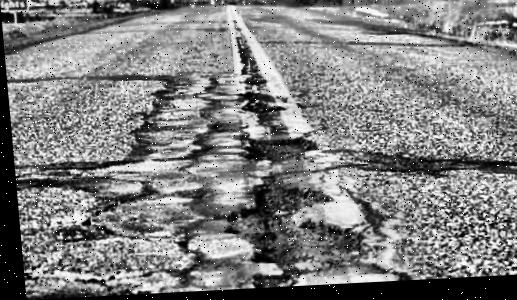pothole: (214, 181, 356, 291), (237, 137, 317, 166), (236, 92, 289, 119), (232, 42, 253, 96)
